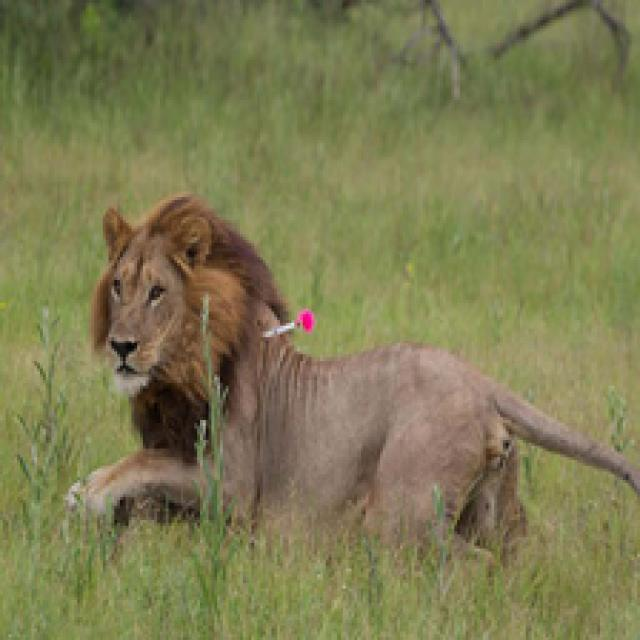lion: (80, 178, 572, 571)
